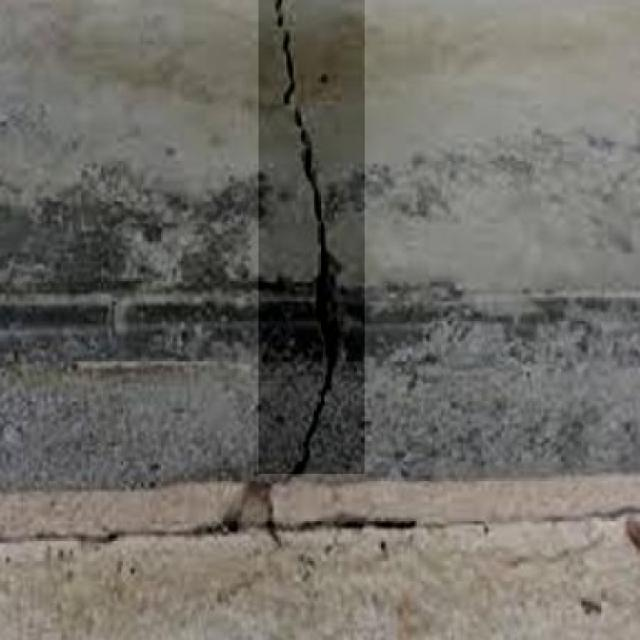Crack: (264, 0, 345, 476)
